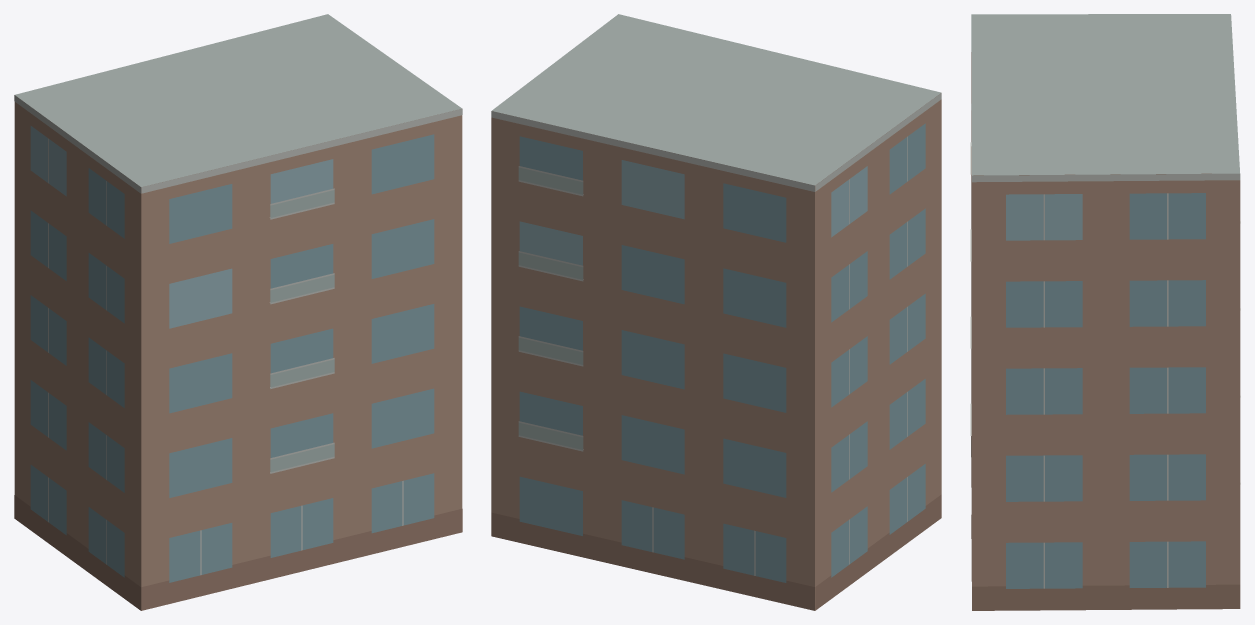
The model's file is survey-upis-32735354.glb.
The picture shows the model from 3 angles, left to right: view 1: azimuth 30°, elevation 25°; view 2: azimuth 150°, elevation 25°; view 3: azimuth 270°, elevation 25°; orthographic projection. The views are drawn at different scales.
Visible parts, largest first — view 1: survey-upis-32735354.tmp; view 2: survey-upis-32735354.tmp; view 3: survey-upis-32735354.tmp.
Boxes of the visible parts, x1,y1,x2,y2 form: survey-upis-32735354.tmp: (14,14,462,610); survey-upis-32735354.tmp: (491,14,941,610); survey-upis-32735354.tmp: (970,14,1240,610).
Size of the model in its own units: 12.58 by 15.8 by 8.89.
